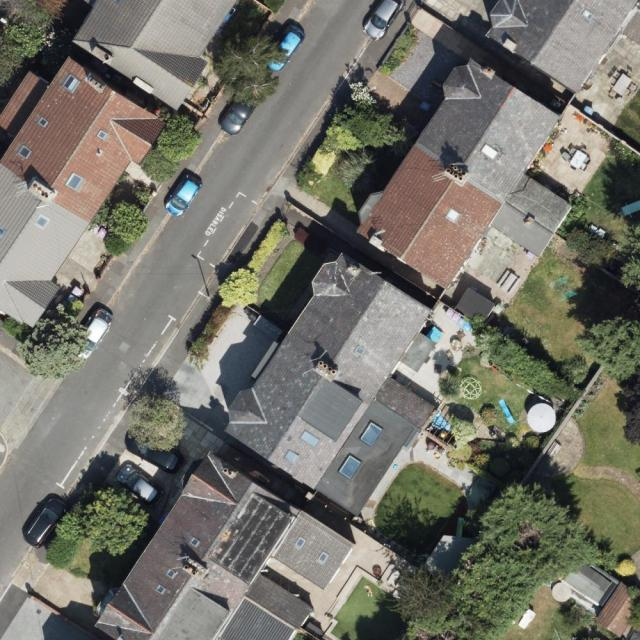roof: (221, 248, 436, 518), (91, 447, 358, 640), (357, 56, 573, 290), (0, 58, 166, 329), (73, 0, 237, 113), (485, 0, 638, 96)
skylight: (355, 418, 387, 450), (337, 452, 366, 482), (60, 73, 85, 97), (63, 169, 88, 192), (300, 428, 323, 450), (477, 143, 502, 162), (441, 205, 464, 225), (29, 214, 51, 233), (15, 142, 34, 161), (284, 446, 302, 465), (190, 532, 205, 551), (35, 113, 51, 130), (164, 566, 180, 581), (95, 128, 111, 143), (292, 534, 306, 551), (353, 344, 368, 359), (581, 8, 598, 21), (317, 548, 329, 565), (153, 583, 168, 596), (0, 226, 8, 237)
